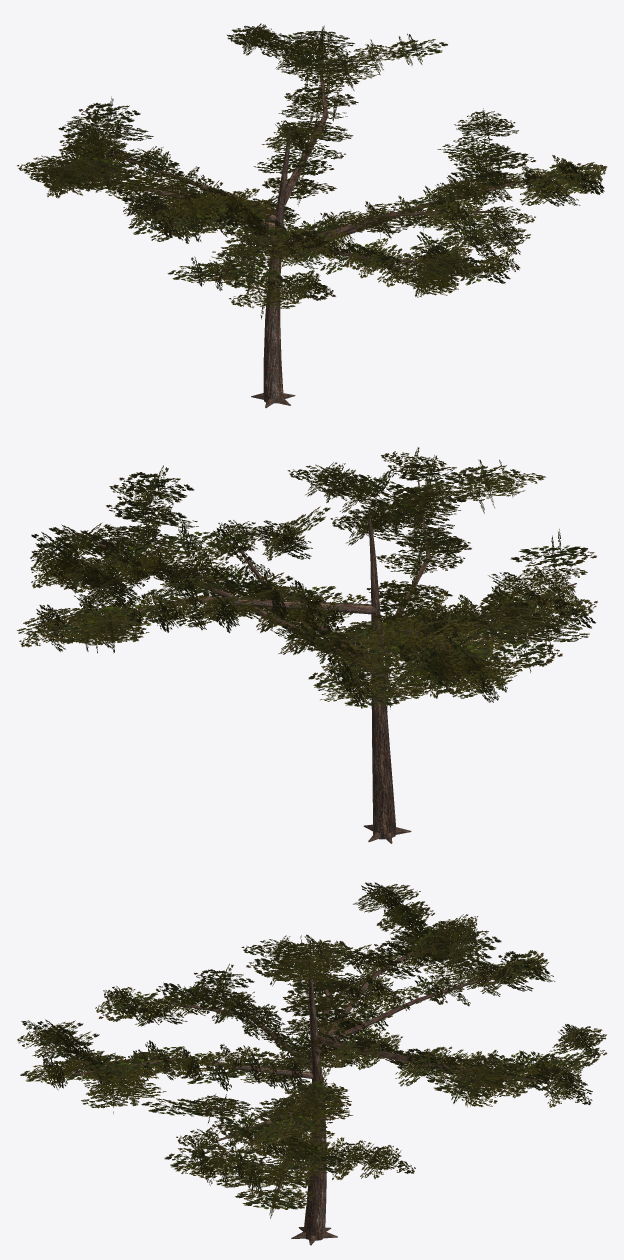
Rendered from tree_3d_06_lod1.glb.
The picture shows the model from 3 angles, top to bottom: view 1: azimuth 30°, elevation 25°; view 2: azimuth 150°, elevation 25°; view 3: azimuth 270°, elevation 25°; orthographic projection. The views are drawn at different scales.
Visible parts, largest first — view 1: foliage_cards, wood_geometry; view 2: foliage_cards, wood_geometry; view 3: foliage_cards, wood_geometry.
Part boxes in pixels (<box>): foliage_cards: <box>17,23,607,319</box>; wood_geometry: <box>55,46,557,407</box>; foliage_cards: <box>17,447,597,714</box>; wood_geometry: <box>60,478,576,843</box>; foliage_cards: <box>17,882,607,1218</box>; wood_geometry: <box>65,949,555,1245</box>.
Bounding box in the file's own units: 14.66 × 7.46 × 14.
2 materials, 2 textured.
